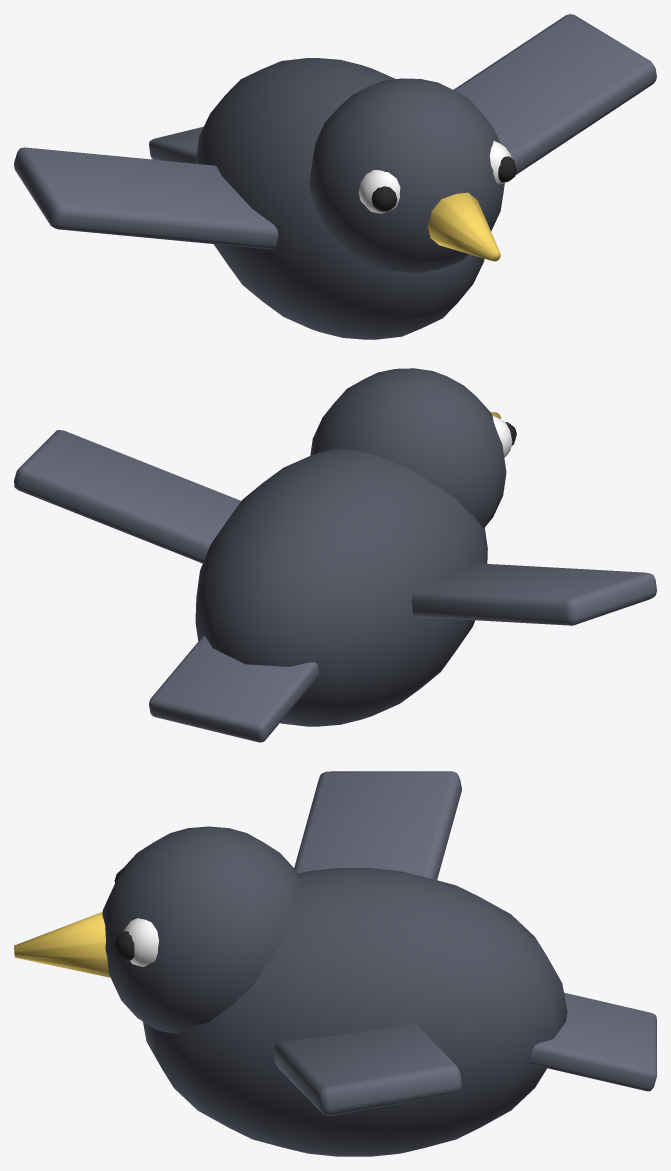
File: obs_crow.glb
3 renders of one model, top to bottom at view 1: azimuth 30°, elevation 25°; view 2: azimuth 150°, elevation 25°; view 3: azimuth 270°, elevation 25°, orthographic. The views are drawn at different scales.
Visible parts, largest first — view 1: 球, 球.001, Wing_-1, Wing_1, 円錐, Tail, 球.002, 球.003; view 2: 球, 球.001, Wing_1, Wing_-1, Tail; view 3: 球, 球.001, Wing_-1, Wing_1, Tail, 円錐, 球.004.
Boxes of the visible parts, left/top/right/bottom form: 球: left=195, top=58, right=484, bottom=339; 球.001: left=309, top=78, right=504, bottom=273; Wing_-1: left=14, top=147, right=278, bottom=249; Wing_1: left=453, top=14, right=656, bottom=174; 円錐: left=427, top=192, right=500, bottom=261; Tail: left=149, top=126, right=203, bottom=163; 球.002: left=358, top=170, right=400, bottom=213; 球.003: left=371, top=186, right=397, bottom=211; 球: left=195, top=449, right=487, bottom=726; 球.001: left=310, top=368, right=506, bottom=527; Wing_1: left=14, top=430, right=240, bottom=563; Wing_-1: left=411, top=563, right=656, bottom=625; Tail: left=149, top=635, right=319, bottom=742; 球: left=143, top=868, right=567, bottom=1156; 球.001: left=102, top=826, right=302, bottom=1033; Wing_-1: left=294, top=771, right=461, bottom=879; Wing_1: left=273, top=1023, right=461, bottom=1115; Tail: left=530, top=992, right=656, bottom=1091; 円錐: left=14, top=912, right=110, bottom=977; 球.004: left=122, top=918, right=158, bottom=966.
Size of the model in its own units: 1.26 by 0.5592 by 1.06.
